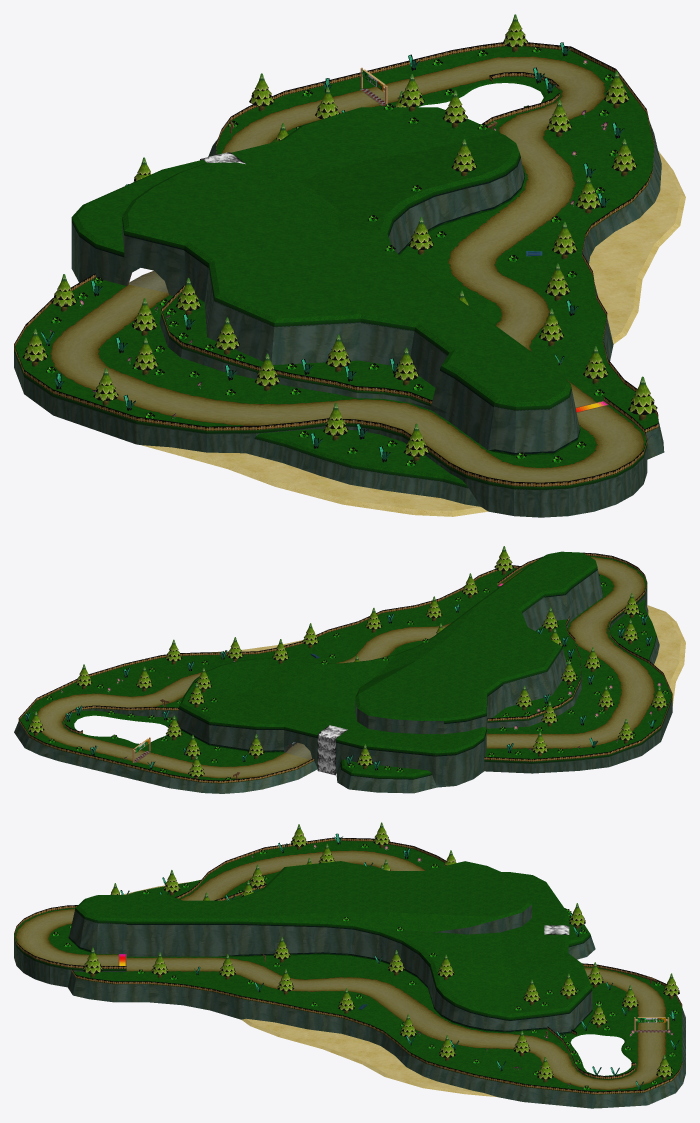
The picture shows the model from 3 angles, top to bottom: view 1: azimuth 30°, elevation 25°; view 2: azimuth 150°, elevation 25°; view 3: azimuth 270°, elevation 25°; orthographic projection. The views are drawn at different scales.
Visible parts, largest first — view 1: emerald_island_2510-SKP--road_kiwa.001, emerald_island_2510-SKP--road_a.001, emerald_island_2510-SKP--iwa.001, emerald_island_2510-SKP--treetops1.001, emerald_island_2510-SKP--Material13.001, emerald_island_2510-SKP--saku_12.001, emerald_island_2510-SKP--Material7.001, emerald_island_2510-SKP--flowers.001, emerald_island_2510-SKP--iwa_kusakiwa_02.001, emerald_island_2510-SKP--tree1.001; view 2: emerald_island_2510-SKP--road_kiwa.001, emerald_island_2510-SKP--iwa.001, emerald_island_2510-SKP--road_a.001, emerald_island_2510-SKP--treetops1.001, emerald_island_2510-SKP--saku_12.001, emerald_island_2510-SKP--flowers.001, emerald_island_2510-SKP--Material13.001, emerald_island_2510-SKP--iwa_kusakiwa_02.001, emerald_island_2510-SKP--Material7.001, emerald_island_2510-SKP--Material6.001, emerald_island_2510-SKP--tree1.001; view 3: emerald_island_2510-SKP--road_kiwa.001, emerald_island_2510-SKP--iwa.001, emerald_island_2510-SKP--road_a.001, emerald_island_2510-SKP--treetops1.001, emerald_island_2510-SKP--saku_12.001, emerald_island_2510-SKP--Material13.001, emerald_island_2510-SKP--flowers.001, emerald_island_2510-SKP--iwa_kusakiwa_02.001, emerald_island_2510-SKP--kabe_sita.001, emerald_island_2510-SKP--Material7.001, emerald_island_2510-SKP--tree1.001.
Boxes of the visible parts, x1,y1,x2,y2 form: emerald_island_2510-SKP--road_kiwa.001: [15, 46, 658, 484]; emerald_island_2510-SKP--road_a.001: [48, 55, 646, 482]; emerald_island_2510-SKP--iwa.001: [14, 122, 664, 517]; emerald_island_2510-SKP--treetops1.001: [22, 14, 657, 456]; emerald_island_2510-SKP--Material13.001: [141, 151, 685, 516]; emerald_island_2510-SKP--saku_12.001: [14, 42, 658, 487]; emerald_island_2510-SKP--Material7.001: [14, 264, 647, 490]; emerald_island_2510-SKP--flowers.001: [41, 42, 624, 466]; emerald_island_2510-SKP--iwa_kusakiwa_02.001: [71, 153, 520, 406]; emerald_island_2510-SKP--tree1.001: [32, 47, 646, 461]; emerald_island_2510-SKP--road_kiwa.001: [20, 551, 671, 780]; emerald_island_2510-SKP--iwa.001: [14, 569, 672, 793]; emerald_island_2510-SKP--road_a.001: [37, 556, 656, 778]; emerald_island_2510-SKP--treetops1.001: [27, 546, 667, 776]; emerald_island_2510-SKP--saku_12.001: [18, 552, 672, 783]; emerald_island_2510-SKP--flowers.001: [24, 575, 668, 779]; emerald_island_2510-SKP--Material13.001: [212, 605, 685, 705]; emerald_island_2510-SKP--iwa_kusakiwa_02.001: [178, 567, 597, 779]; emerald_island_2510-SKP--Material7.001: [484, 566, 672, 764]; emerald_island_2510-SKP--Material6.001: [317, 725, 347, 775]; emerald_island_2510-SKP--tree1.001: [34, 571, 661, 778]; emerald_island_2510-SKP--road_kiwa.001: [50, 841, 682, 1091]; emerald_island_2510-SKP--iwa.001: [14, 905, 685, 1108]; emerald_island_2510-SKP--road_a.001: [14, 849, 666, 1090]; emerald_island_2510-SKP--treetops1.001: [83, 822, 679, 1079]; emerald_island_2510-SKP--saku_12.001: [14, 837, 682, 1094]; emerald_island_2510-SKP--Material13.001: [121, 881, 497, 1097]; emerald_island_2510-SKP--flowers.001: [52, 833, 679, 1090]; emerald_island_2510-SKP--iwa_kusakiwa_02.001: [126, 921, 592, 1020]; emerald_island_2510-SKP--kabe_sita.001: [68, 936, 592, 1034]; emerald_island_2510-SKP--Material7.001: [14, 908, 126, 971]; emerald_island_2510-SKP--tree1.001: [90, 845, 673, 1082].
Size of what is drawn, in the model's own units: 67820 by 8389 by 76090.
Materials: 23 (23 with a texture image).
